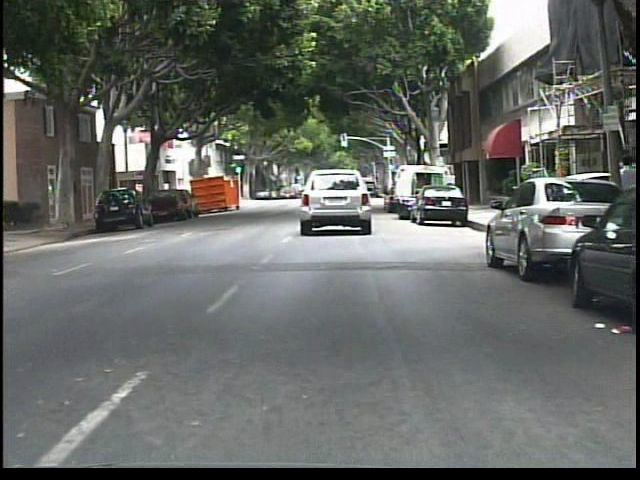person: (602, 150, 639, 259)
